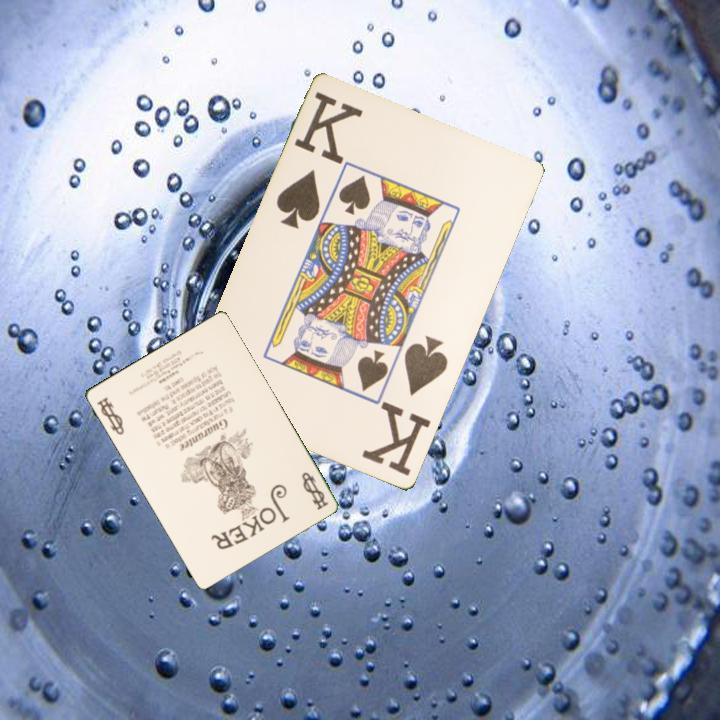JK: (93, 393, 127, 438), (297, 468, 331, 512)
Ks: (359, 332, 452, 480), (272, 88, 365, 233)
